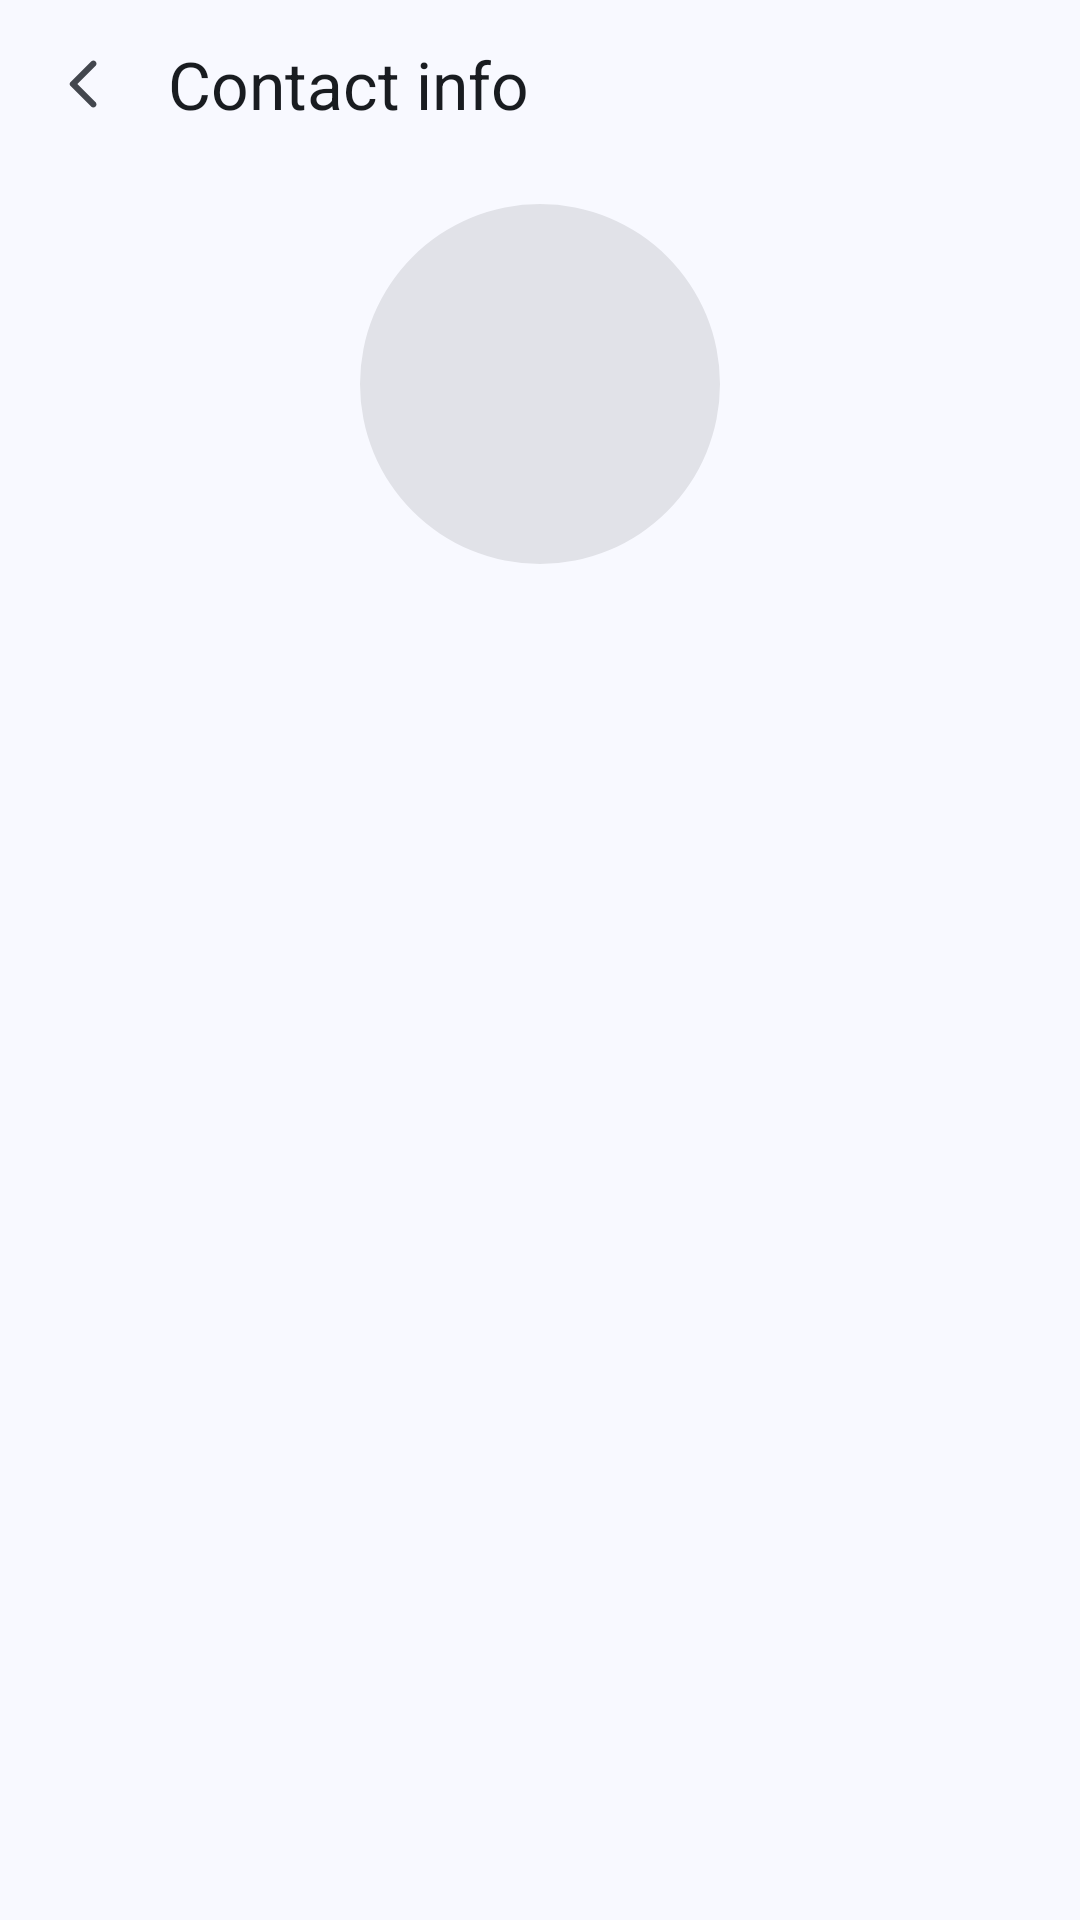

Locate icon controls on the screen. Image size 1080 × 1920, boxes as region(x1, y1, x2, y2).
Back: region(69, 60, 97, 108)
